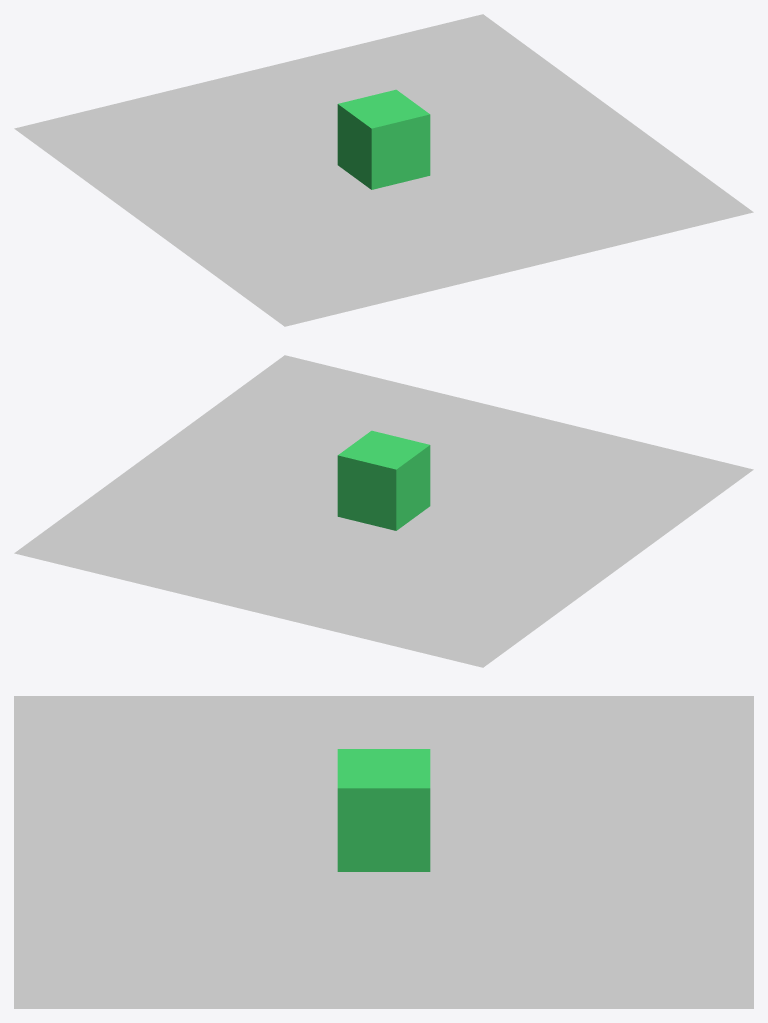
File: map.glb
3 renders of one model, top to bottom at view 1: azimuth 30°, elevation 25°; view 2: azimuth 150°, elevation 25°; view 3: azimuth 270°, elevation 25°, orthographic. The views are drawn at different scales.
Visible parts, largest first — view 1: Plane; view 2: Plane; view 3: Plane.
Boxes of the visible parts, <box> form: Plane: <box>14,14,753,326</box>; Plane: <box>14,355,753,667</box>; Plane: <box>14,696,753,1008</box>.
Bounding box in the file's own units: 16 × 2 × 16.
